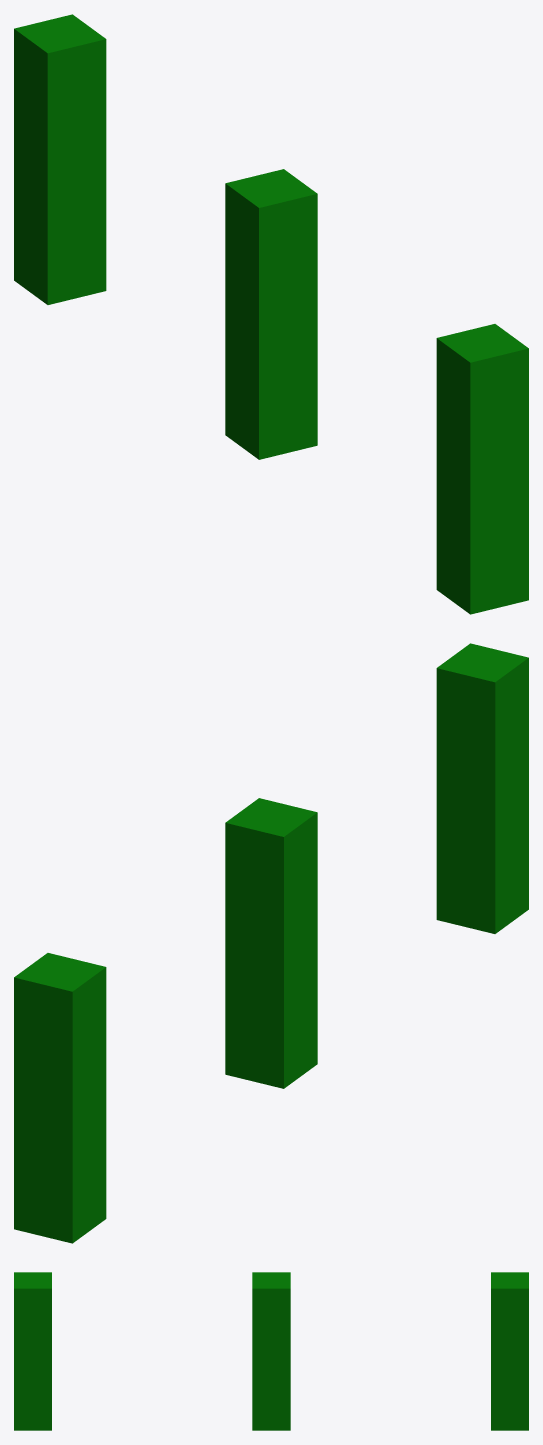
Rendered from palta 7.obj.
3 renders of one model, top to bottom at view 1: azimuth 30°, elevation 25°; view 2: azimuth 150°, elevation 25°; view 3: azimuth 270°, elevation 25°, orthographic. The views are drawn at different scales.
Bounding box in the file's own units: 0.08 × 0.3288 × 1.08.
